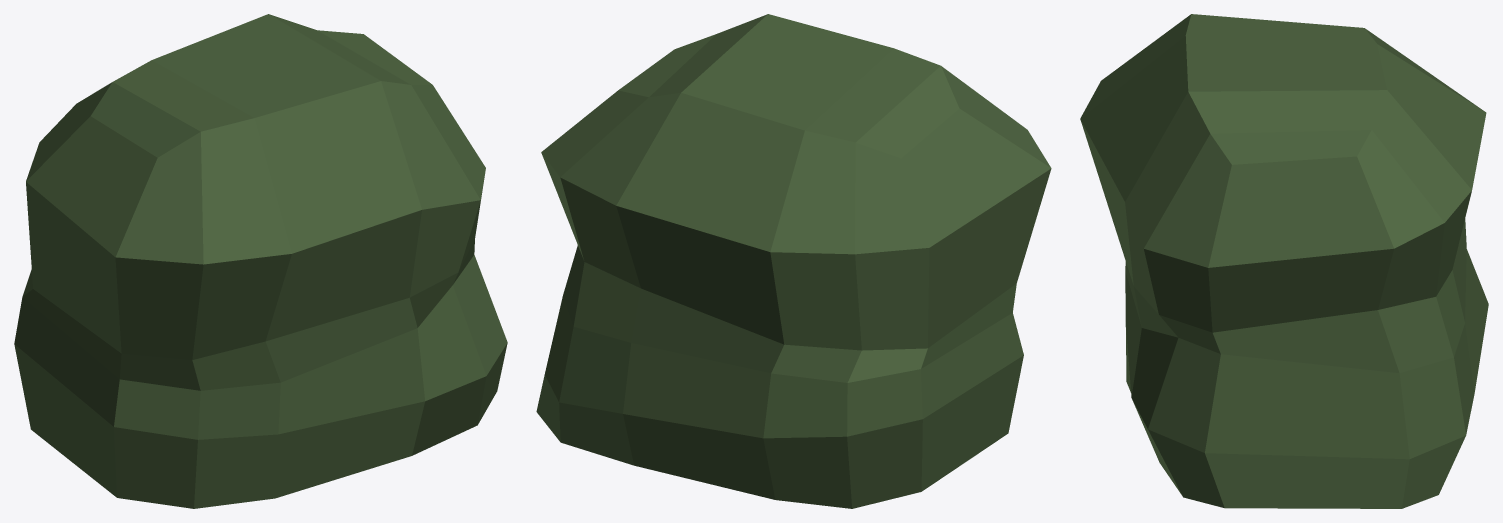
The model's file is bushberries_2.gltf.
3 views of the same model, side by side, from view 1: azimuth 30°, elevation 25°; view 2: azimuth 150°, elevation 25°; view 3: azimuth 270°, elevation 25° (orthographic). The views are drawn at different scales.
Visible parts, largest first — view 1: bushberries_2; view 2: bushberries_2; view 3: bushberries_2.
Boxes of the visible parts, x1,y1,x2,y2 form: bushberries_2: [14, 14, 507, 508]; bushberries_2: [536, 14, 1051, 508]; bushberries_2: [1080, 14, 1488, 508].
Size of the model in its own units: 0.5923 by 0.5056 by 0.5147.
Materials: 1 (1 with a texture image).
